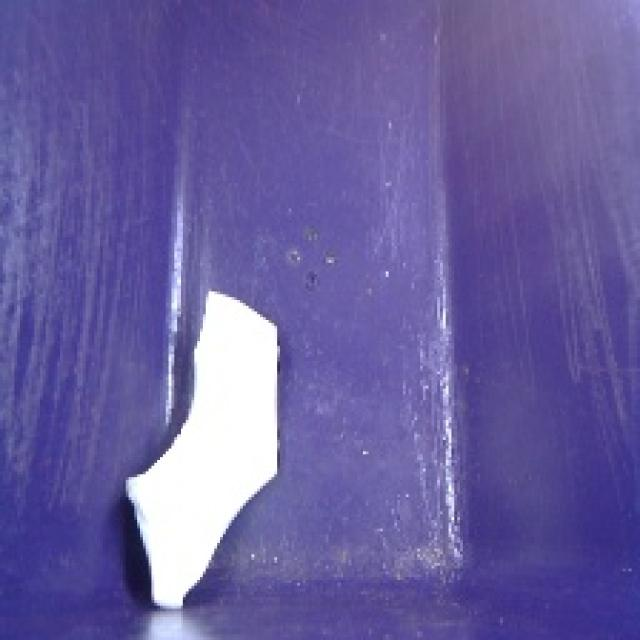china: (116, 284, 297, 613)
